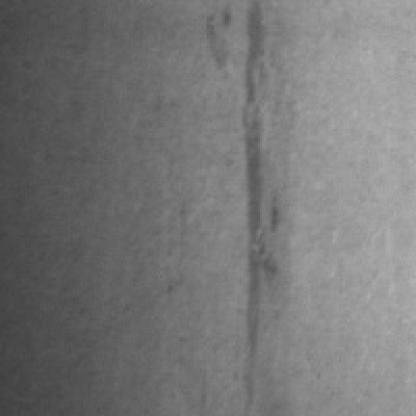inclusion: (235, 75, 287, 416), (208, 6, 276, 122)
